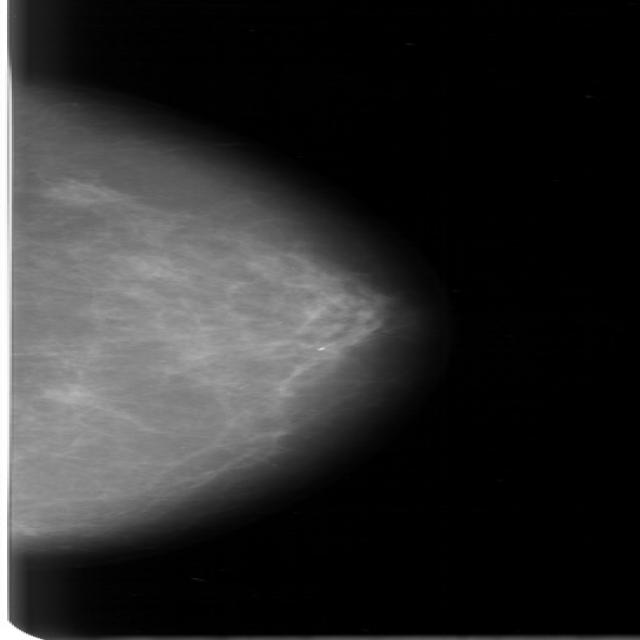tumour: (38, 178, 113, 203)
